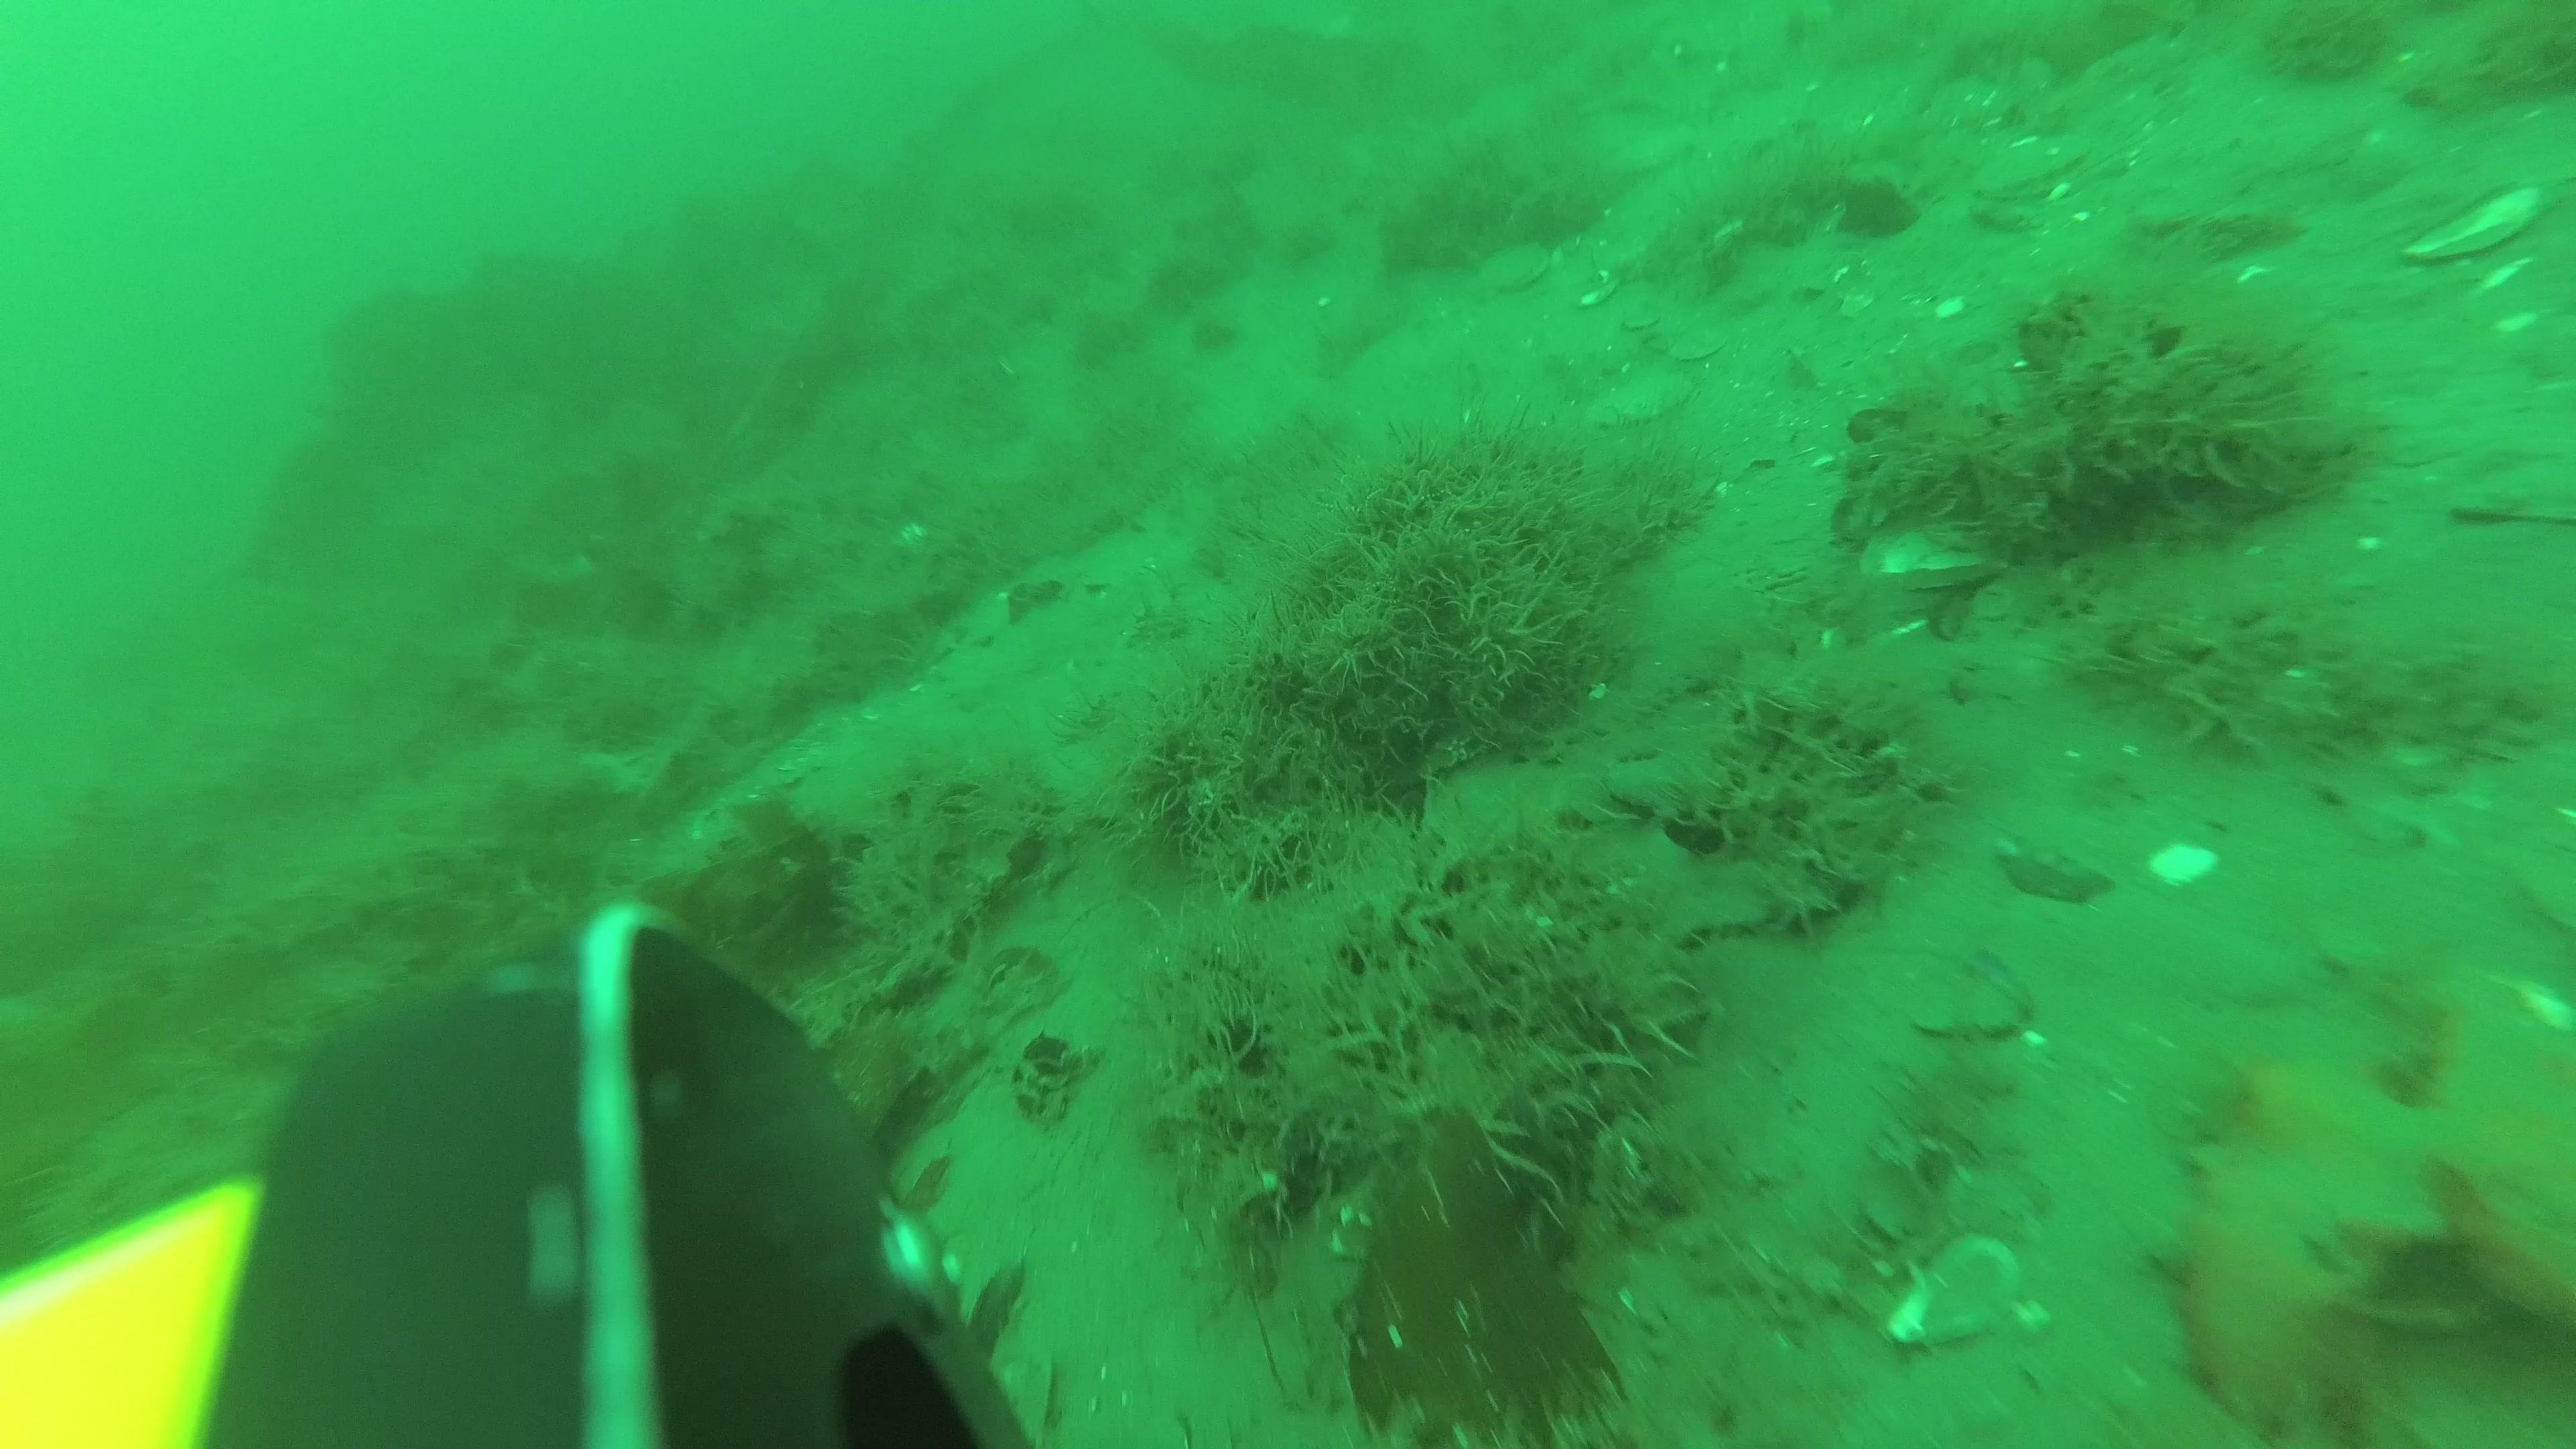scallop: (1890, 1238, 2024, 1346), (2411, 184, 2560, 257), (1973, 134, 2091, 191), (1601, 373, 1697, 419), (1484, 244, 1543, 287)
